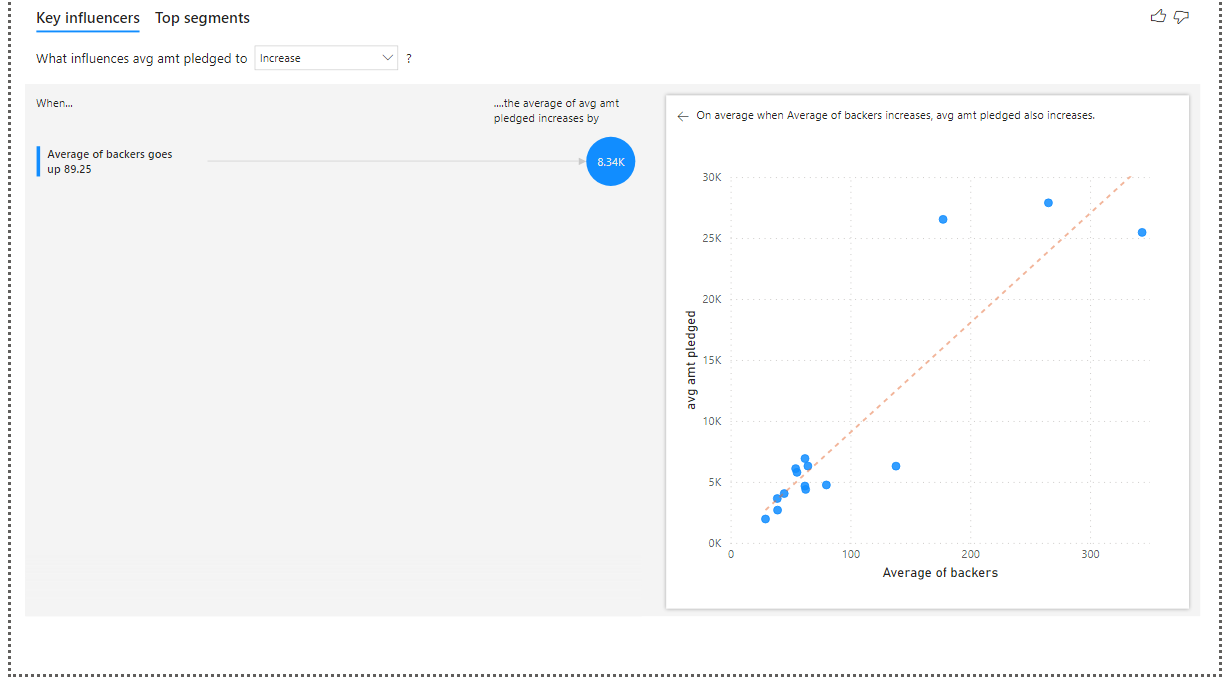

This screenshot's page, from the dashboard's own definition file:
{"tool":"powerbi","page":{"name":"Key Influencers (cont)","canvas":[1280,720],"ordinal":1},"visuals":[{"type":"keyDriversVisual","fields":{"ExplainBy":["Avg(kickstarter_projects.backers)","kickstarter_projects.category"],"Target":["kickstarter_projects.avg amt pledged"]},"box":[9.5,0,1255.4,664.6],"z":0}]}

Visuals, with their boxes on the page's 1280x720 design canvas (x1, y1, x2, y2). These are canvas units, not pixel positions in the 1232x683 screenshot, which may show the page scaled, cropped or inside an application window:
keyDriversVisual - Avg(kickstarter_projects.backers) x kickstarter_projects.category: box(10, 0, 1265, 665)
